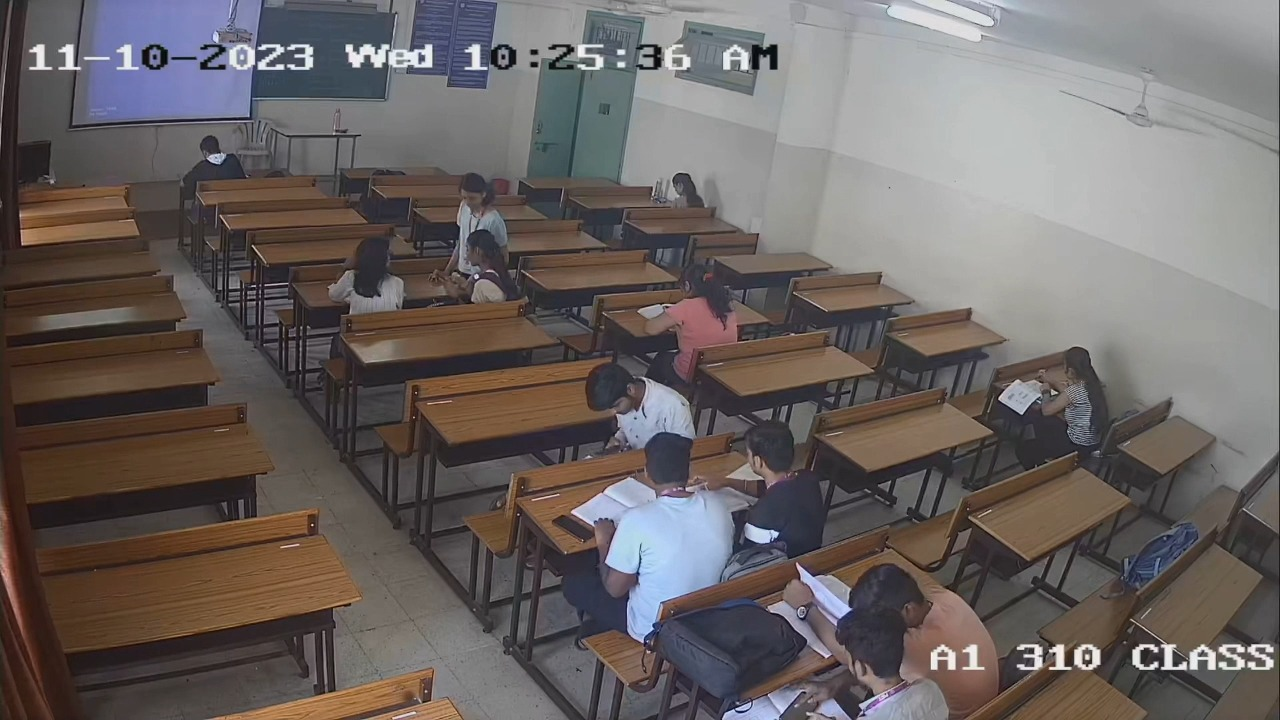cell-phones: (548, 511, 597, 545), (776, 691, 819, 720)
person: (601, 432, 734, 590), (825, 607, 949, 720)
